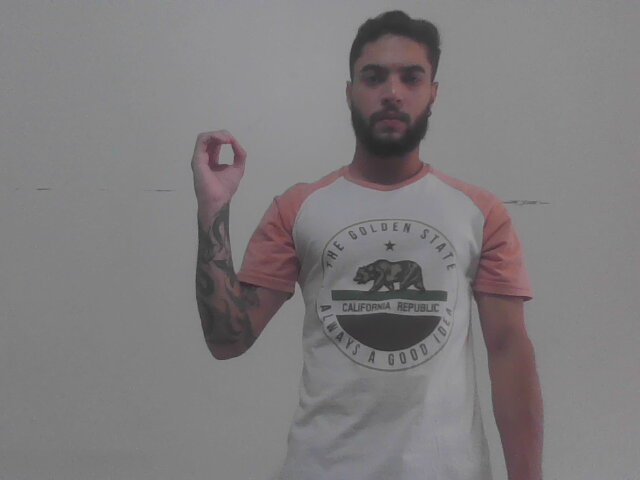o: (185, 119, 253, 212)
